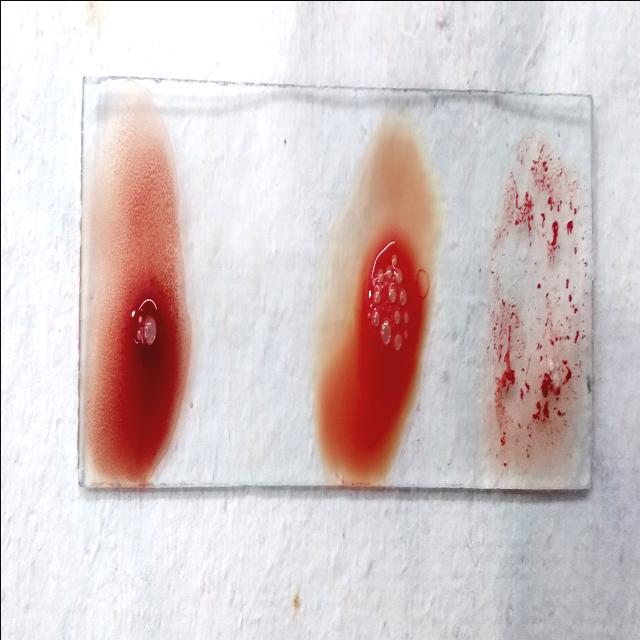A: (92, 120, 182, 476)
D: (482, 140, 582, 486)
